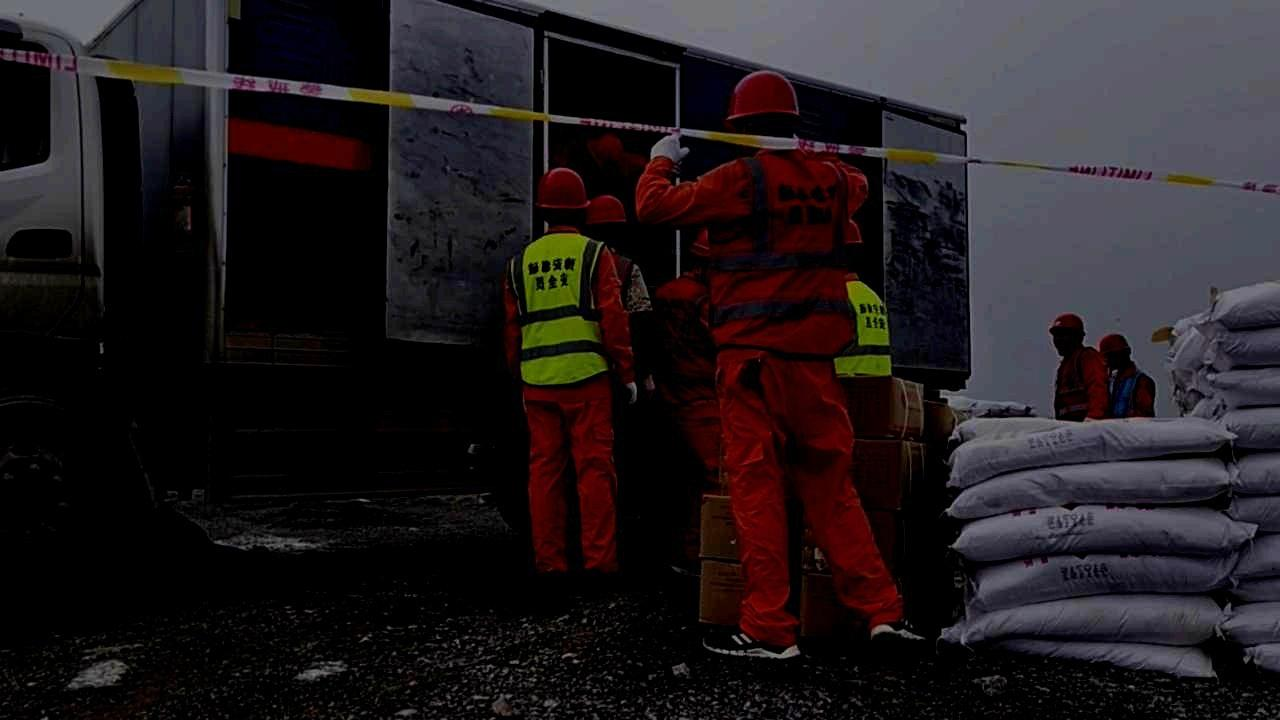helmet: (724, 69, 799, 153), (535, 167, 590, 228), (586, 194, 626, 245), (1049, 312, 1086, 357), (1097, 333, 1132, 372), (688, 225, 711, 276), (847, 218, 861, 272)
